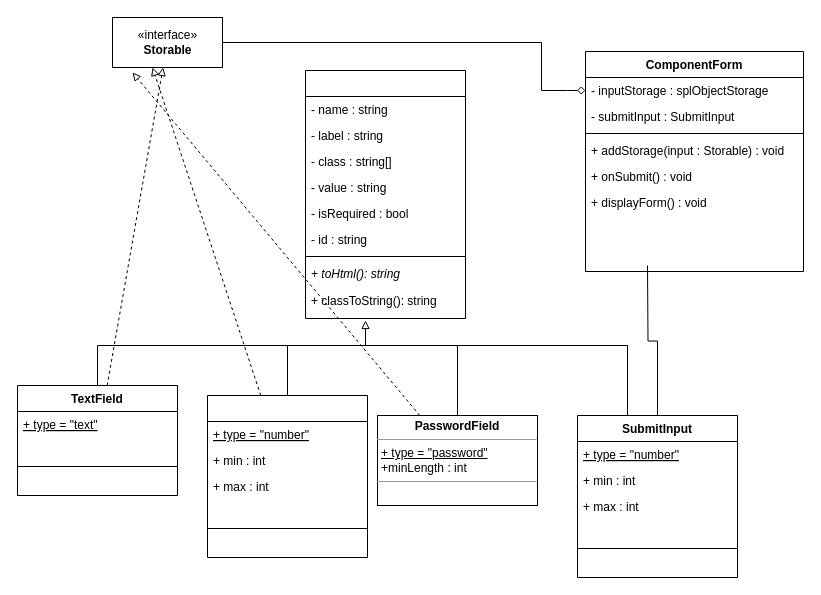
Some shapes in this 821 by 595 pixel diagram are drawn without their labels. Here are the shapes that lost their labels. From the top down, the box of each, then its label:
(304, 70, 466, 318): Input
(206, 394, 368, 558): NumberField
